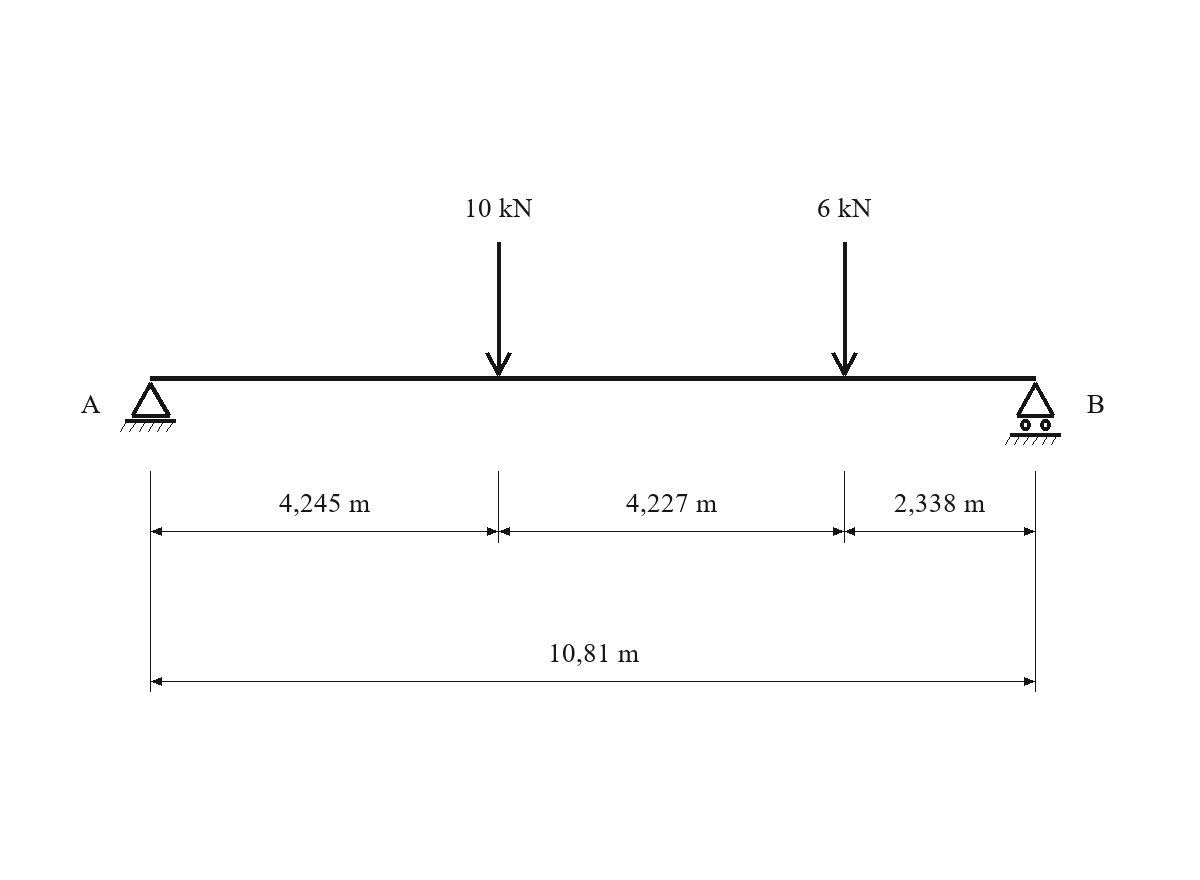pin_support: (120, 382, 176, 432)
point_load: (485, 242, 512, 376), (831, 242, 858, 376)
roller_support: (1005, 382, 1061, 445)
